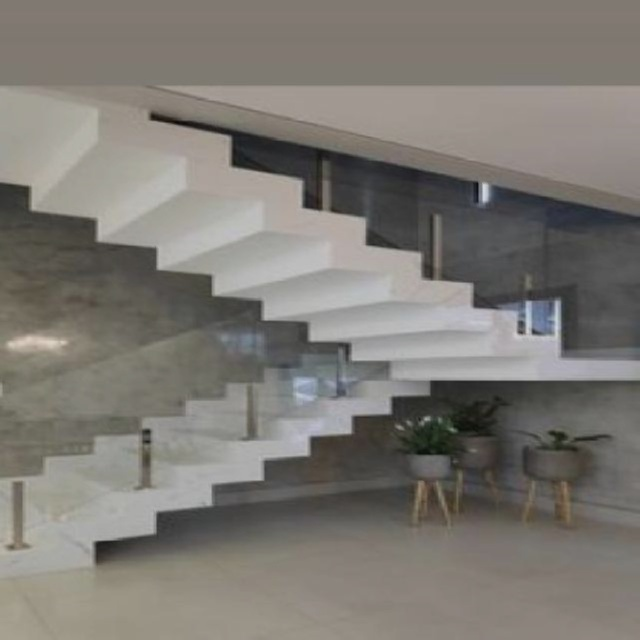stair: (1, 310, 450, 599)
